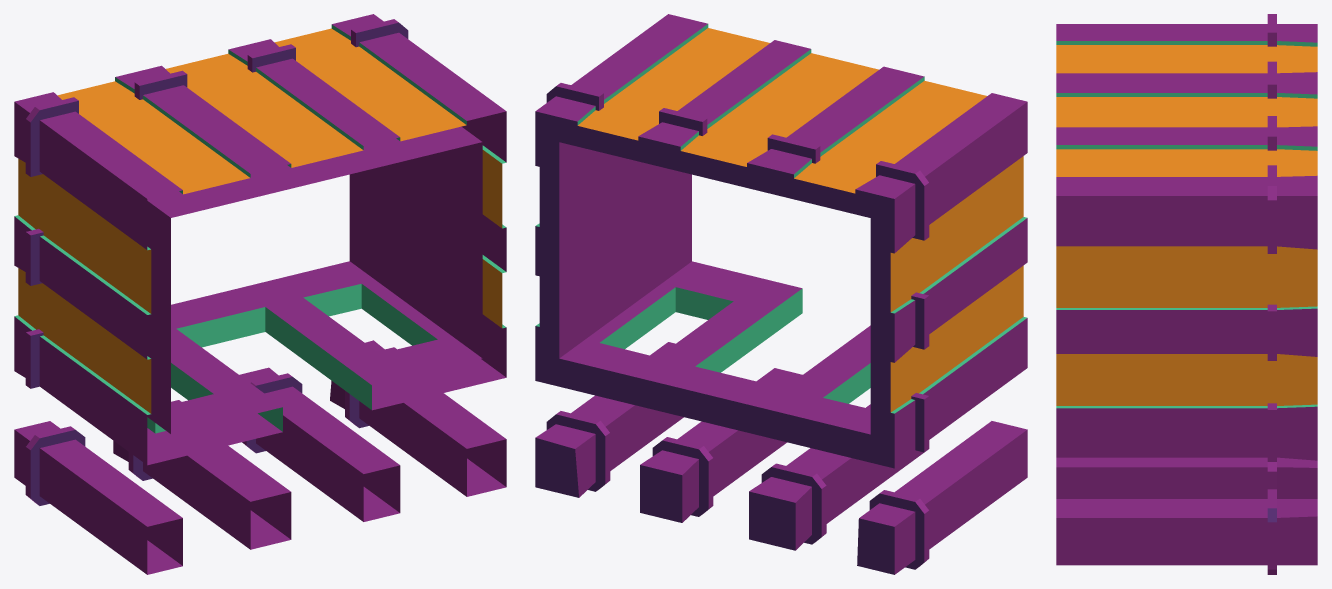
The model's file is Rogatka Warszawska Tier 2.fbx.
The picture shows the model from 3 angles, left to right: view 1: azimuth 30°, elevation 25°; view 2: azimuth 150°, elevation 25°; view 3: azimuth 270°, elevation 25°; orthographic projection.
Parts seen in each view (by area): view 1: Rogatka Warszawska; view 2: Rogatka Warszawska; view 3: Rogatka Warszawska.
Part boxes in pixels (left/top/right/bottom): Rogatka Warszawska: left=14, top=14, right=506, bottom=574; Rogatka Warszawska: left=535, top=14, right=1027, bottom=574; Rogatka Warszawska: left=1056, top=14, right=1317, bottom=574.
Size of the model in its own units: 3.54 by 3.54 by 2.16.
